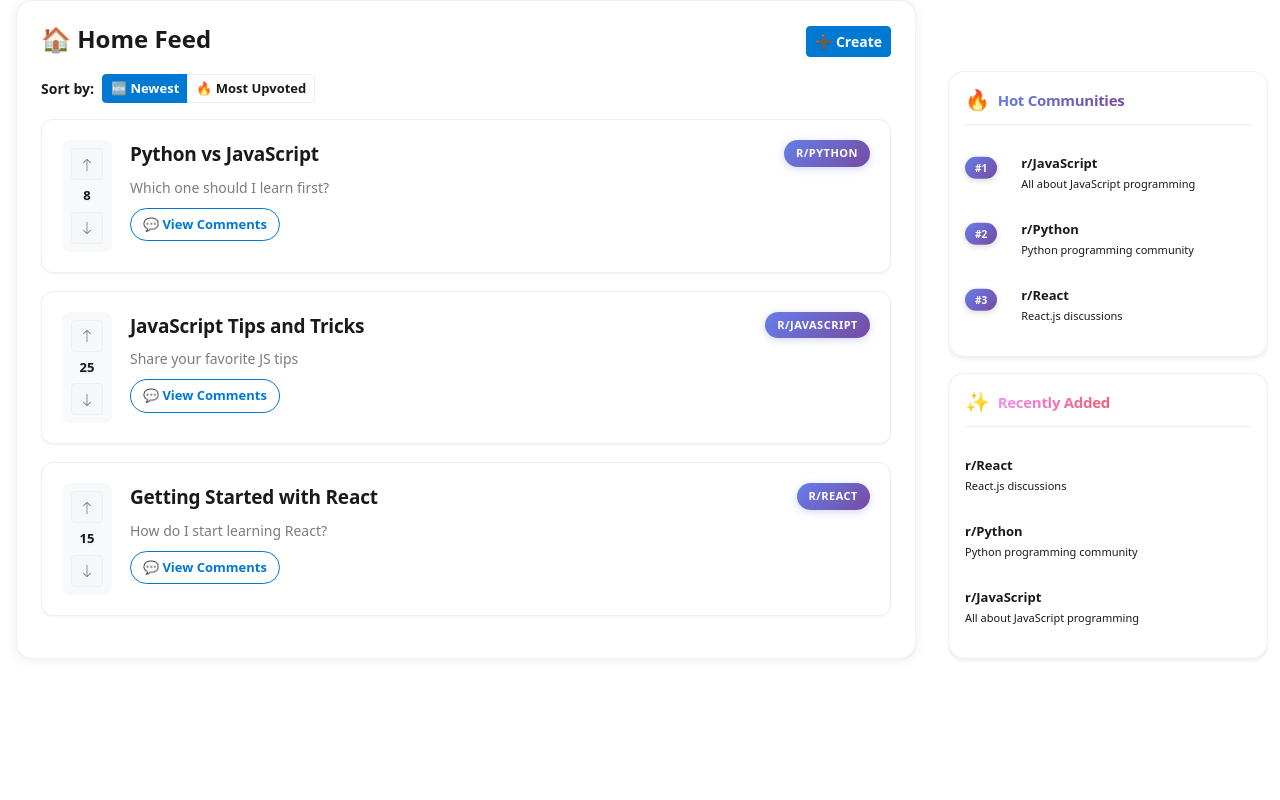
Test: Thread UI workflow › opens the thread detail view and fetches the selected thread
The width and height of the screenshot is (1280, 800).
Expected: the heading "Getting Started with React" is shown, [130,483,378,512]
Click the link "💬 View Comments" below "How do I start learning React?" at (205, 568), box [130,551,280,584]
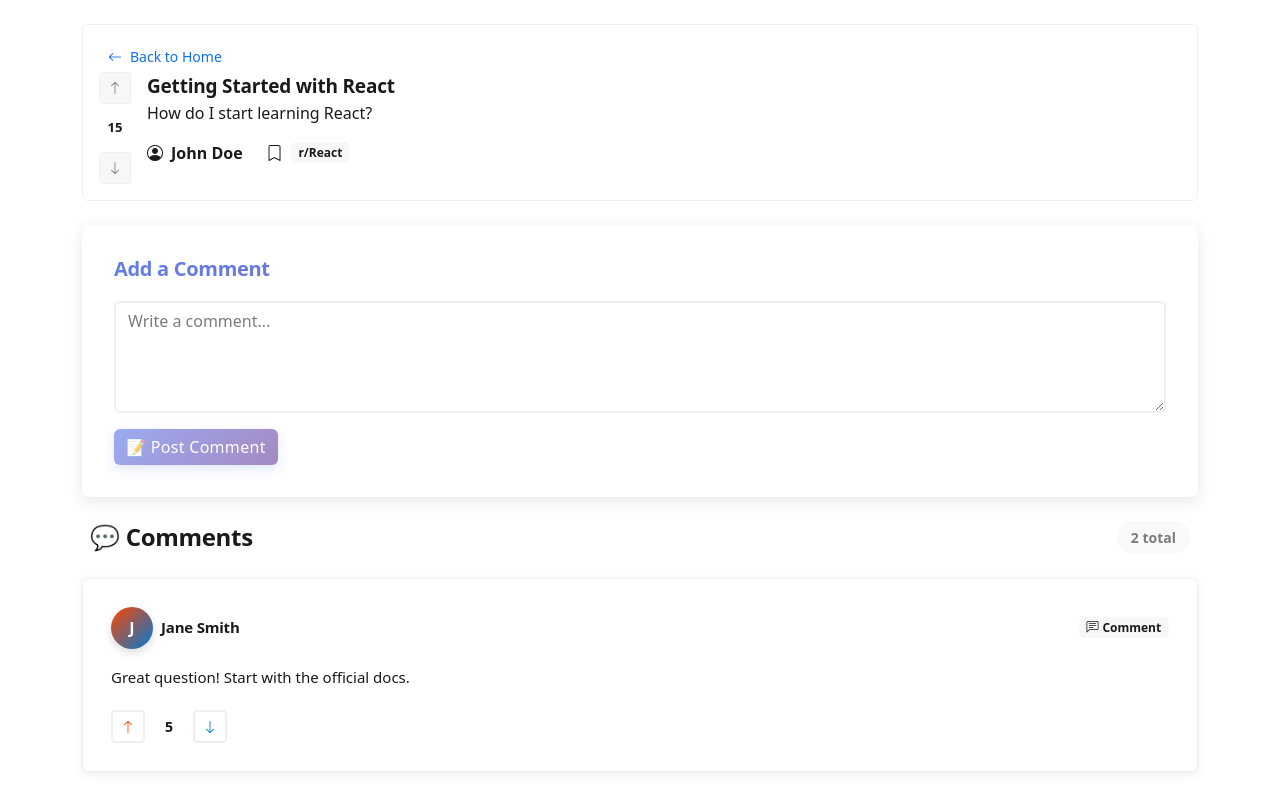
Expected: the text "How do I start learning React?" is shown, [147,102,372,124]
Expected: the heading "💬 Comments" is shown, [90,523,253,551]
